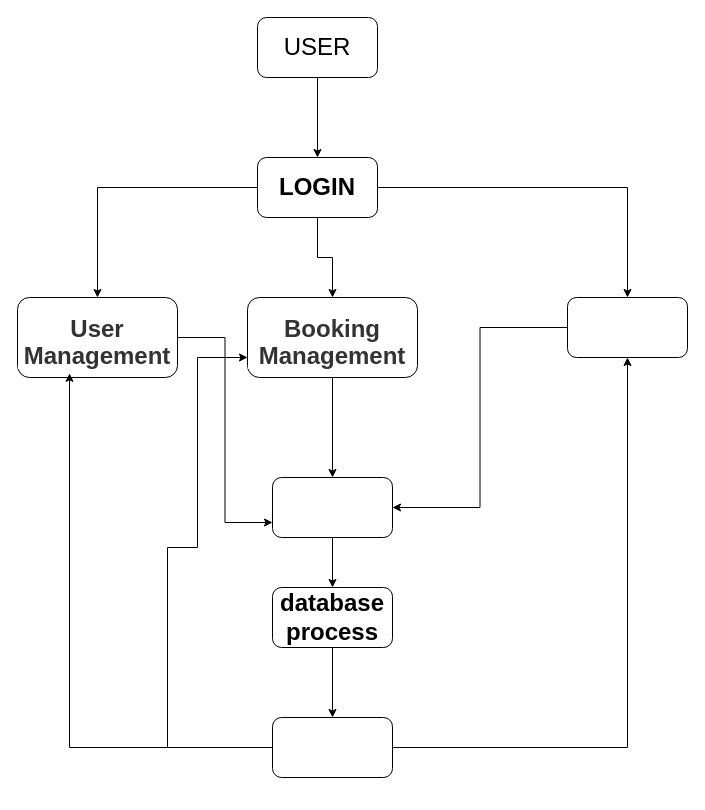
The diagram is 705 pixels wide and 810 high, and some of its shapes have lost their labels. The shapes that lost their labels are listed below. From the top down, each one's centre as x and y in pixels, then its label:
At [627,327]: "Payment".
At [332,507]: "input data".
At [332,747]: "output data".
